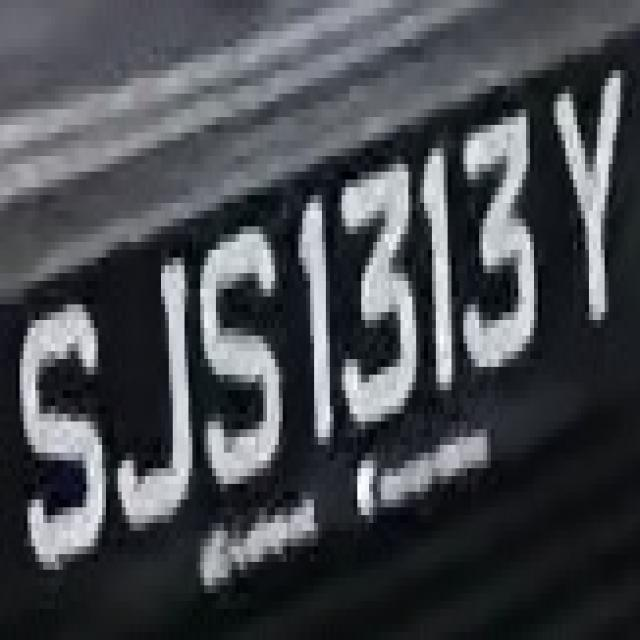1: (408, 117, 468, 414), (290, 148, 334, 460)
3: (338, 132, 424, 460), (455, 102, 546, 390)
J: (94, 234, 204, 554)
S: (8, 265, 118, 570), (192, 219, 286, 515)
Y: (538, 62, 632, 344)
